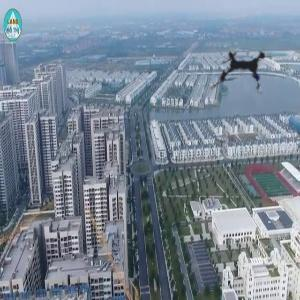drone: (188, 15, 299, 126)
